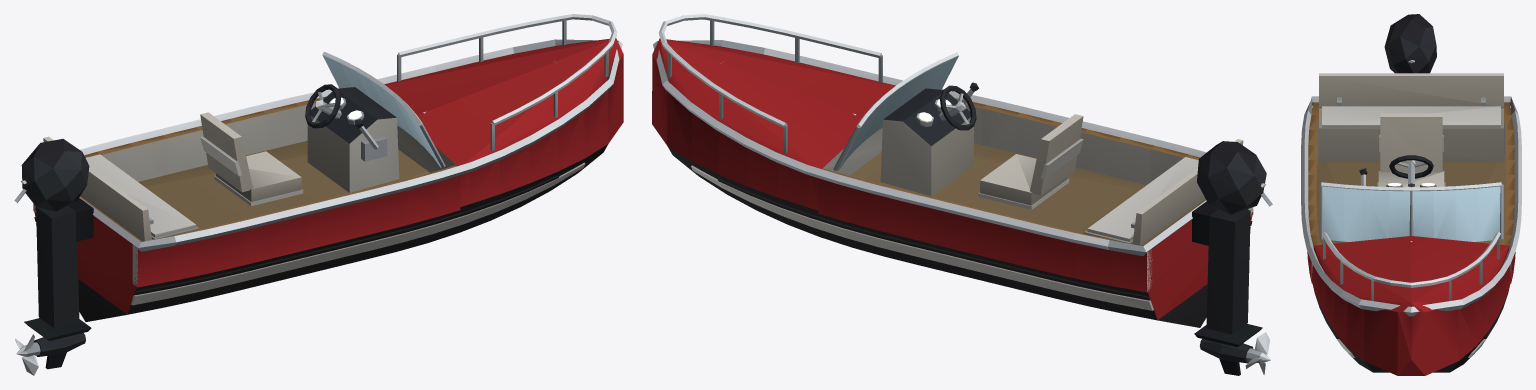
File: mt_motorboat_red.glb
3 views of the same model, side by side, from view 1: azimuth 30°, elevation 25°; view 2: azimuth 150°, elevation 25°; view 3: azimuth 270°, elevation 25° (orthographic). The views are drawn at different scales.
Parts seen in each view (by area): view 1: base, steer_m, prop_m; view 2: base, steer_m, prop_m; view 3: base, steer_m.
Part boxes in pixels (box(x1,y1,x2,y2)): base: box(14, 14, 623, 369); steer_m: box(305, 84, 341, 128); prop_m: box(15, 334, 40, 375); base: box(652, 14, 1272, 375); steer_m: box(939, 85, 976, 130); prop_m: box(1245, 332, 1270, 374); base: box(1301, 14, 1521, 375); steer_m: box(1389, 155, 1433, 187).
Size of the model in its own units: 1.09 by 0.3884 by 0.368.
